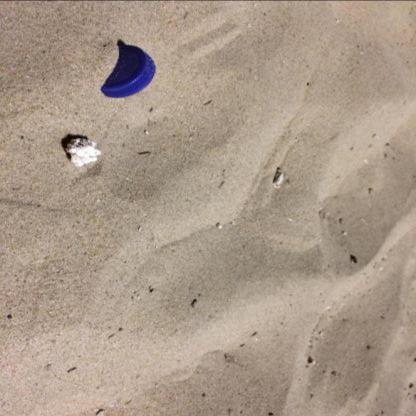Bottle: (101, 44, 156, 98)
Styrofoam piece: (66, 138, 101, 166)
